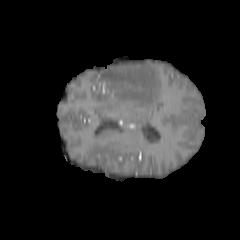glioma: (100, 62, 162, 110)
